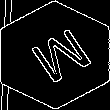M_SE: (18, 21, 92, 89)
